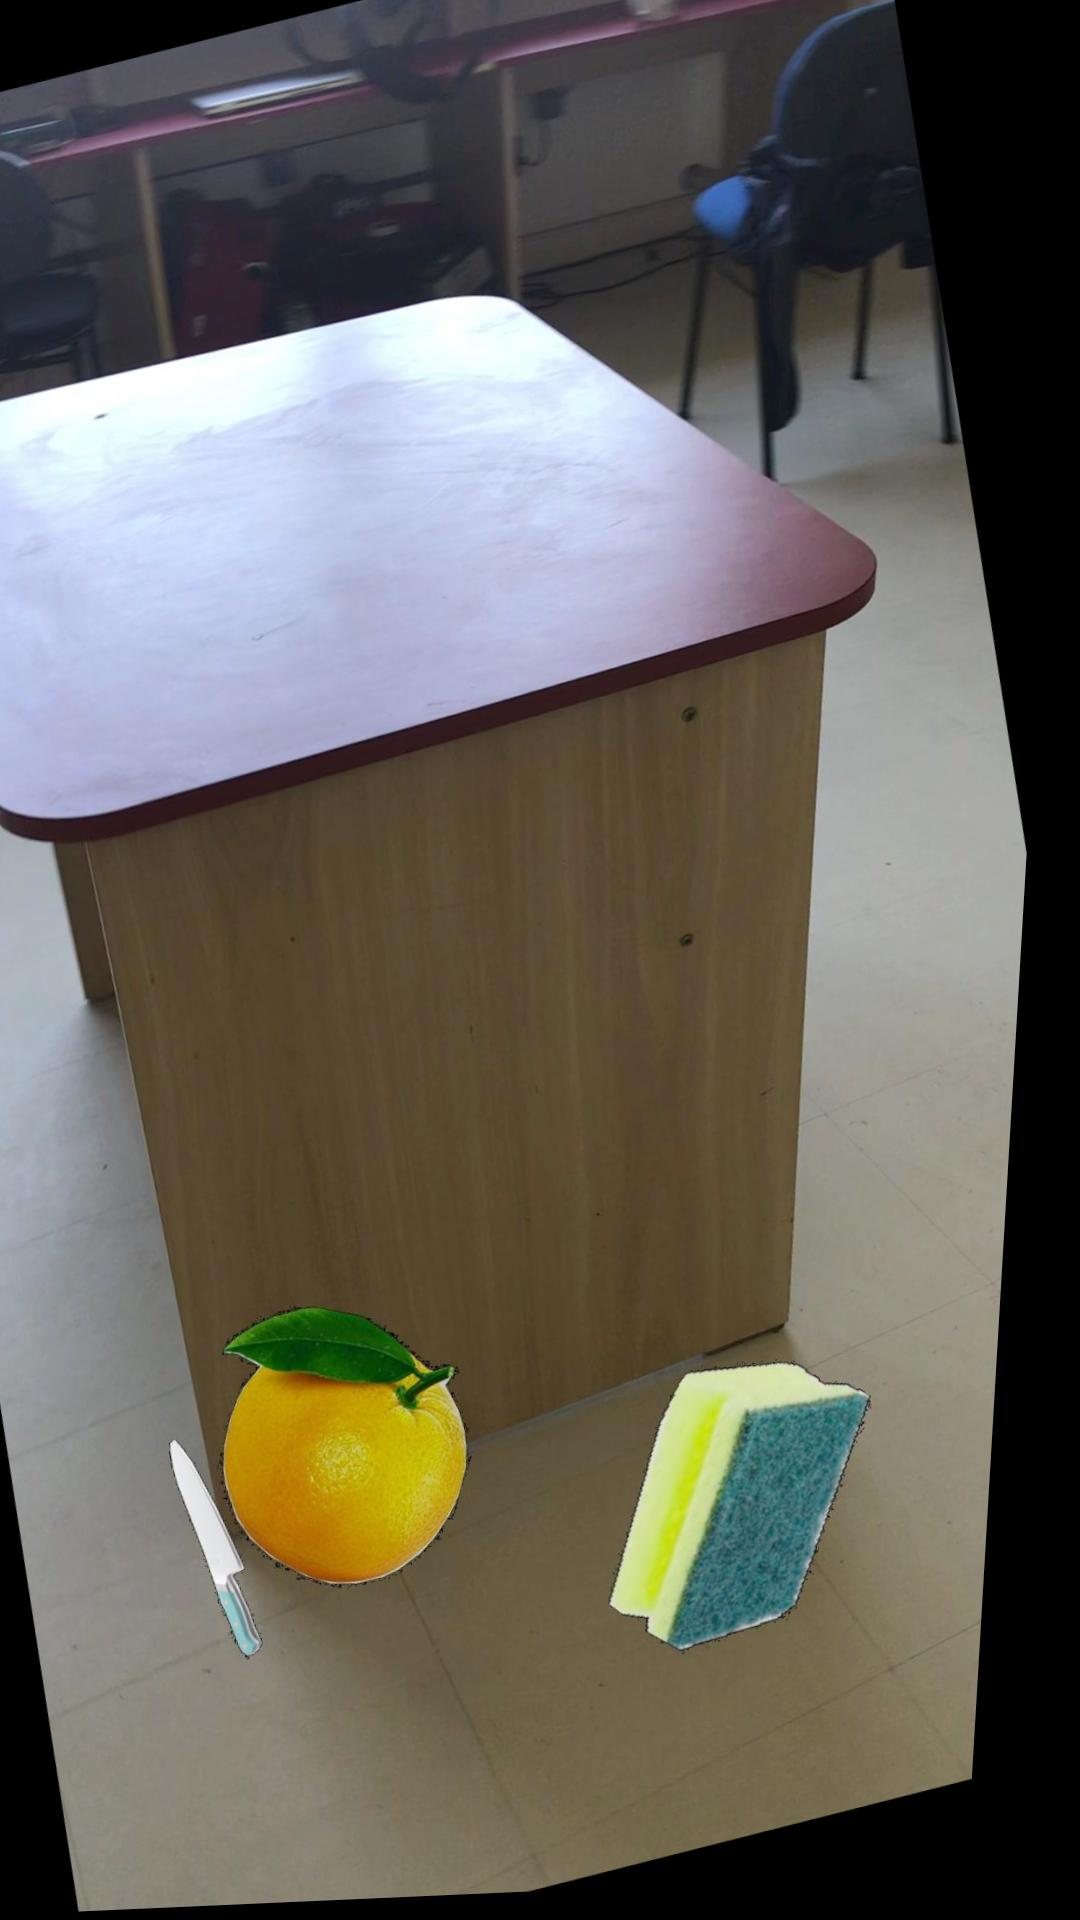knife: (189, 1440, 285, 1659)
orange: (239, 1308, 488, 1590)
sponge: (630, 1367, 890, 1656)
